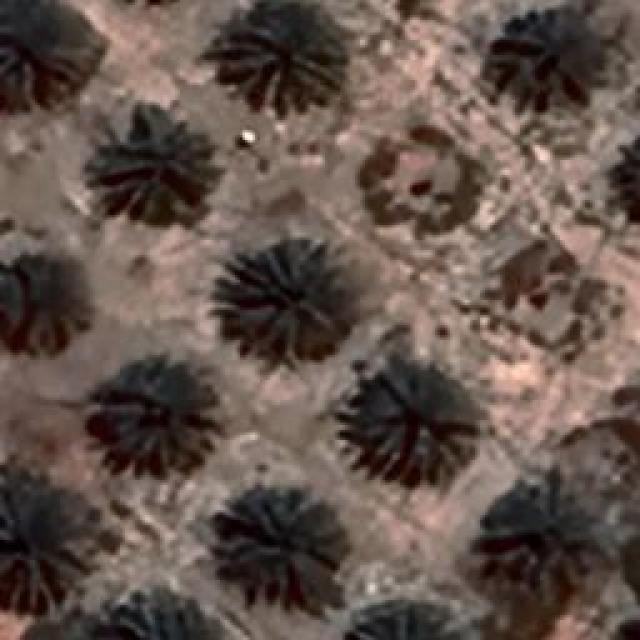PalmTree: (225, 240, 350, 368), (352, 360, 478, 485), (84, 105, 218, 220), (220, 490, 345, 605), (480, 465, 605, 580), (215, 0, 343, 110), (100, 372, 220, 472), (0, 485, 92, 610), (0, 0, 100, 102), (494, 8, 598, 102), (0, 254, 80, 364), (101, 590, 224, 640), (352, 592, 466, 640), (605, 126, 640, 232)
